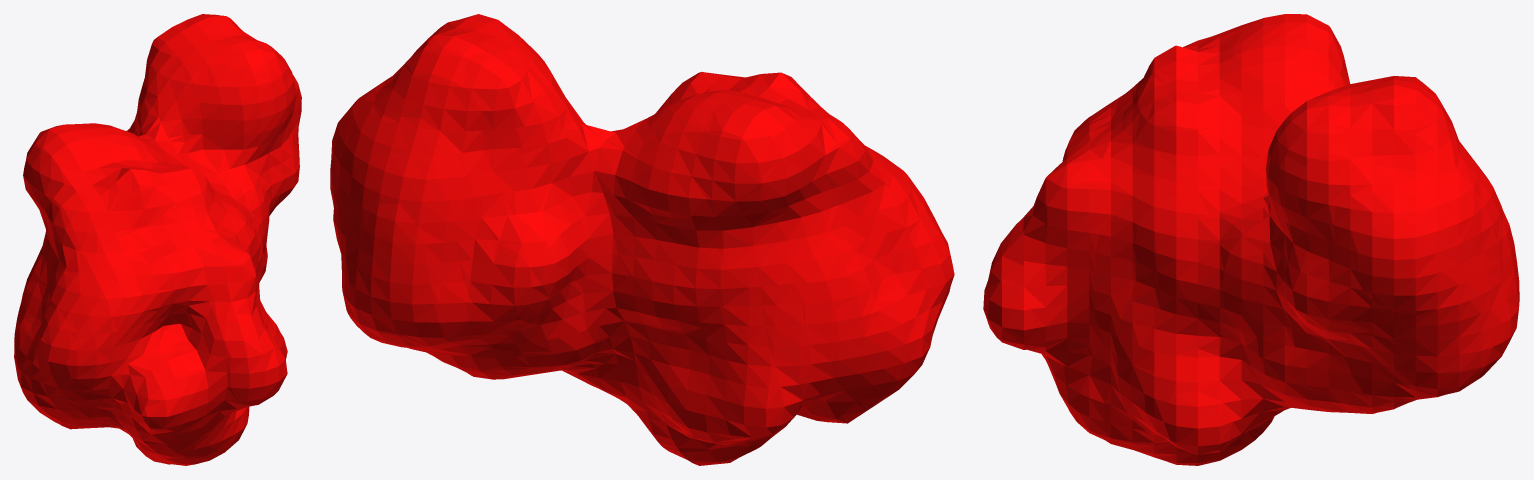
The model's file is rsmE_coarse.dae.
3 views of the same model, side by side, from view 1: azimuth 30°, elevation 25°; view 2: azimuth 150°, elevation 25°; view 3: azimuth 270°, elevation 25° (orthographic). The views are drawn at different scales.
Parts seen in each view (by area): view 1: rsmE; view 2: rsmE; view 3: rsmE.
Part boxes in pixels (x1,y1,x2,y2): rsmE: (14,14,301,465); rsmE: (330,14,954,465); rsmE: (983,14,1519,465).
Size of the model in its own units: 57.69 by 53.91 by 57.83.
